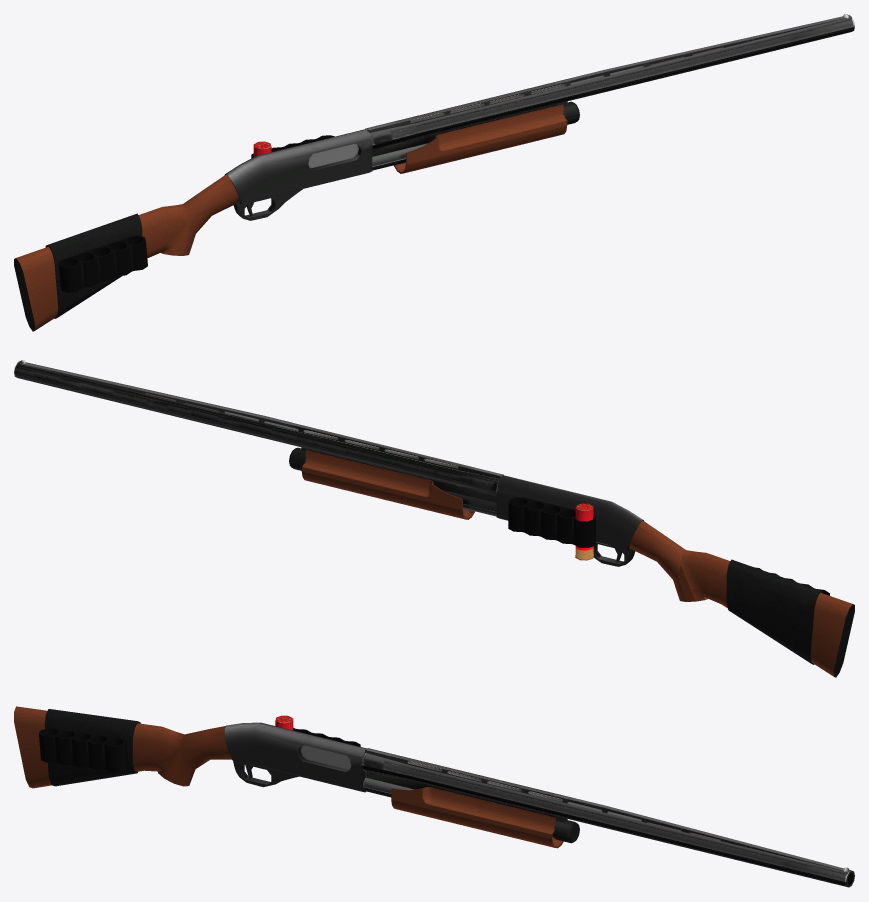
3 renders of one model, top to bottom at view 1: azimuth 30°, elevation 25°; view 2: azimuth 150°, elevation 25°; view 3: azimuth 330°, elevation 25°, orthographic.
Parts seen in each view (by area): view 1: node_id4, node_id10; view 2: node_id4, node_id10, node_id6; view 3: node_id4, node_id10.
Part boxes in pixels (<box>): node_id4: <box>14,14,854,331</box>; node_id10: <box>45,213,147,318</box>; node_id4: <box>14,360,854,677</box>; node_id10: <box>726,559,829,664</box>; node_id6: <box>508,497,595,547</box>; node_id4: <box>14,706,854,887</box>; node_id10: <box>39,709,140,786</box>.
Size of the model in its own units: 0.512 by 0.0711 by 0.0341.
Materials: 4 (4 with a texture image).
